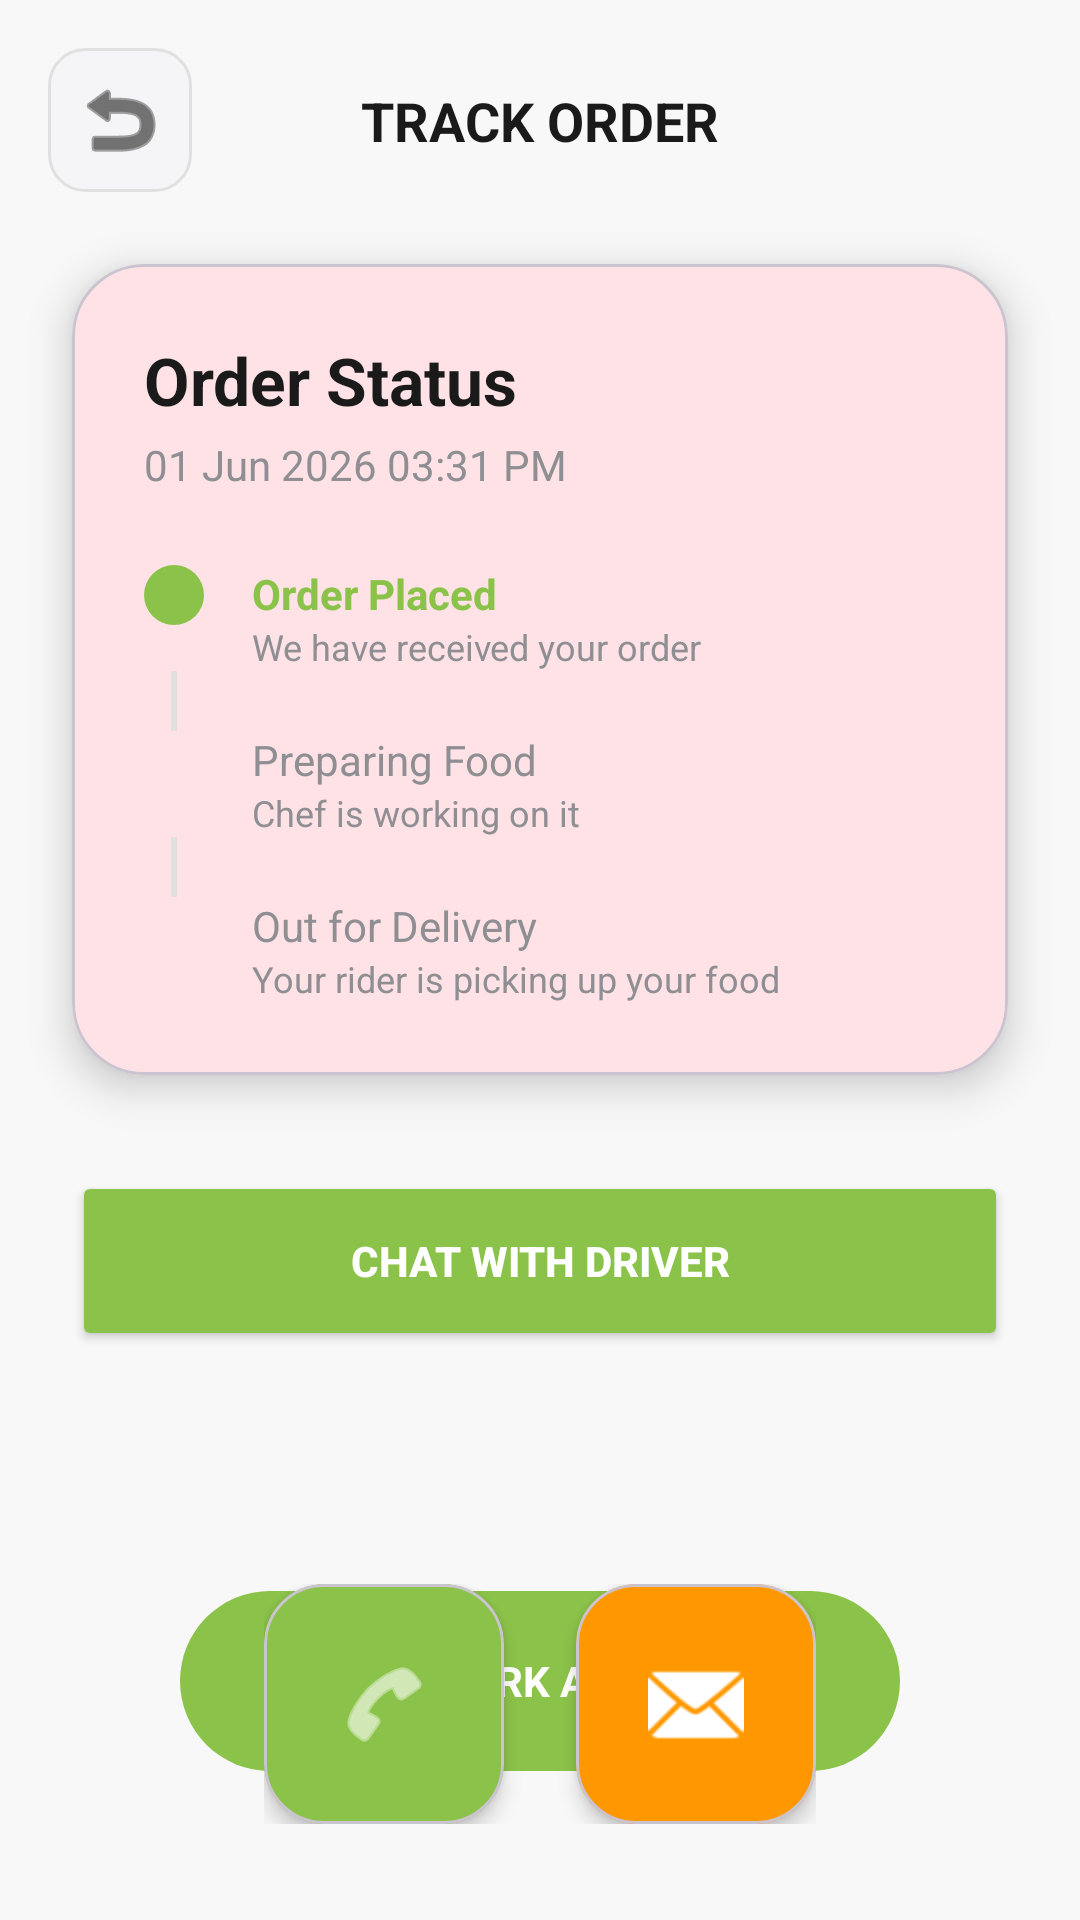

Icon click points for this 1080*1920 phone screenshot, format (x,y):
call: (384,1704)
email: (696,1705)
revert: (121,120)
